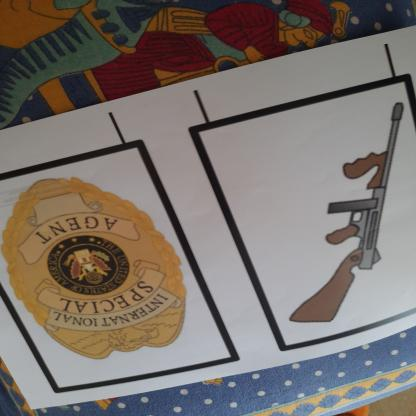Bootlegger: (279, 95, 416, 339)
G-man: (2, 175, 206, 375)
